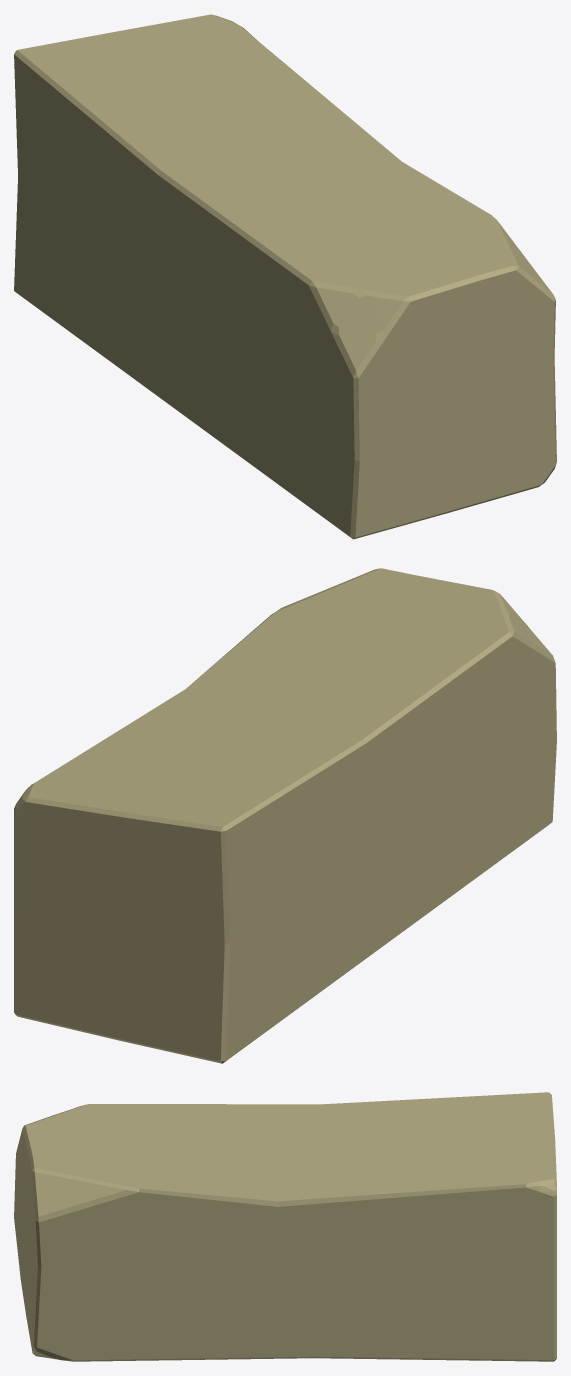
Rendered from brick_1.fbx.
The picture shows the model from 3 angles, top to bottom: view 1: azimuth 30°, elevation 25°; view 2: azimuth 150°, elevation 25°; view 3: azimuth 270°, elevation 25°; orthographic projection. The views are drawn at different scales.
Parts seen in each view (by area): view 1: Brick_2; view 2: Brick_2; view 3: Brick_2.
Boxes of the visible parts, box(x1,y1,x2,y2) form: Brick_2: box(14, 14, 556, 539); Brick_2: box(14, 568, 556, 1063); Brick_2: box(14, 1092, 556, 1361).
Size of the model in its own units: 32.7 by 35.28 by 91.28.
